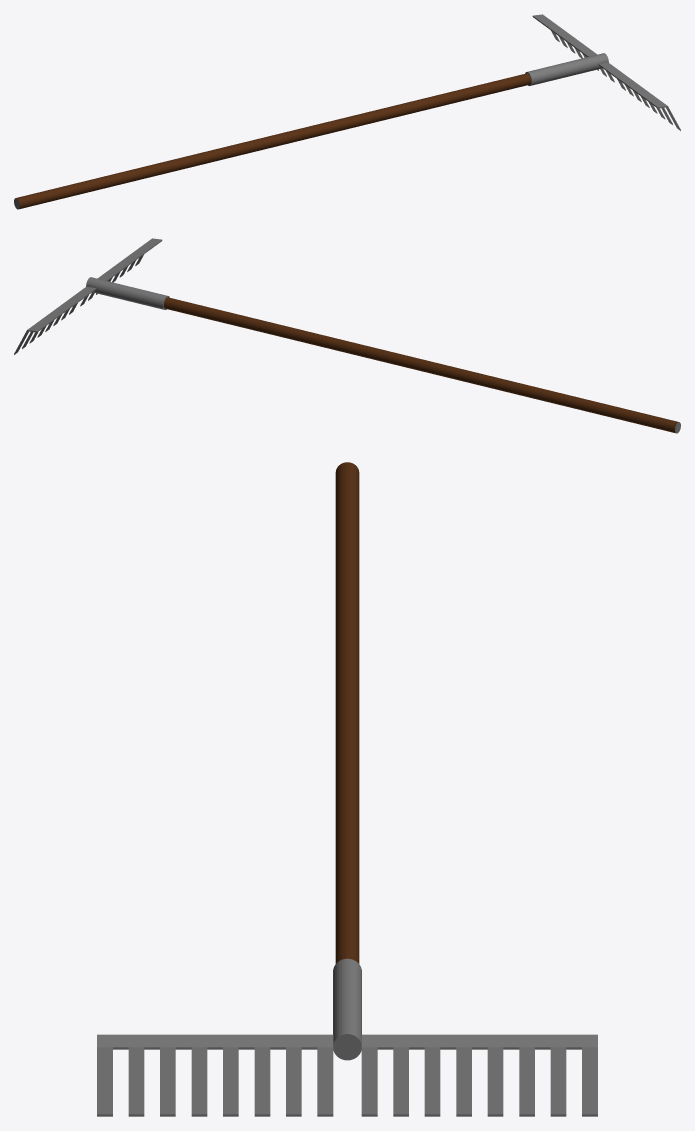
The model's file is Rake.fbx.
3 renders of one model, top to bottom at view 1: azimuth 30°, elevation 25°; view 2: azimuth 150°, elevation 25°; view 3: azimuth 270°, elevation 25°, orthographic. The views are drawn at different scales.
Parts seen in each view (by area): view 1: Rake; view 2: Rake; view 3: Rake.
Boxes of the visible parts, box(x1,y1,x2,y2) form: Rake: box(14, 14, 680, 209); Rake: box(14, 238, 680, 433); Rake: box(97, 462, 597, 1116).
Bounding box in the file's own units: 176 × 9.81 × 63.63.
